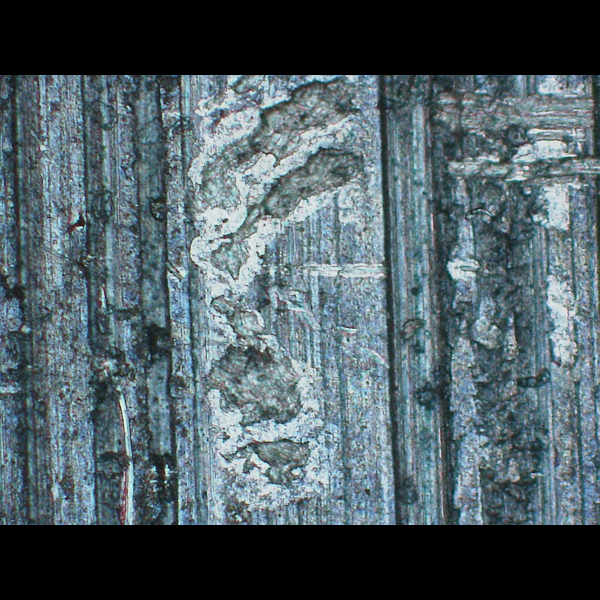d: (194, 75, 385, 512)
